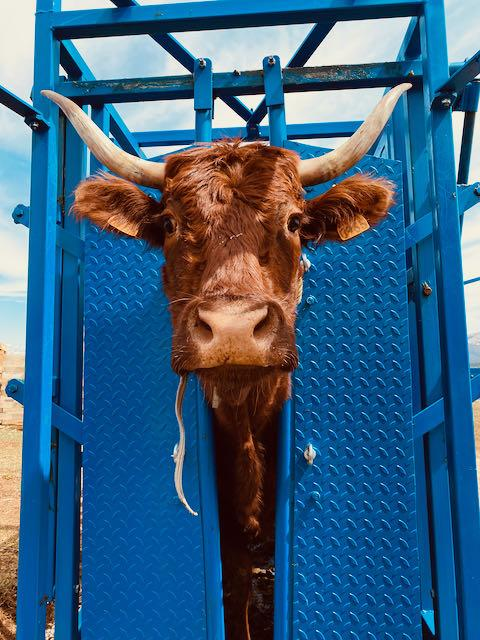muzzles: (169, 294, 306, 382)
